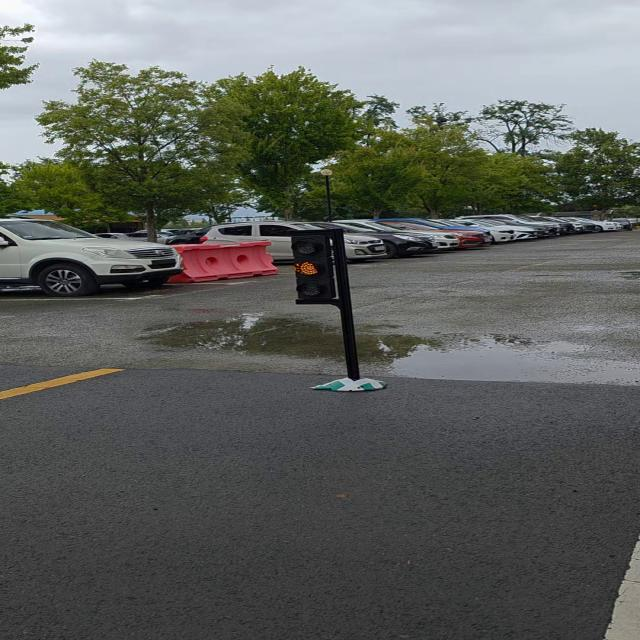yellow: (287, 230, 338, 299)
